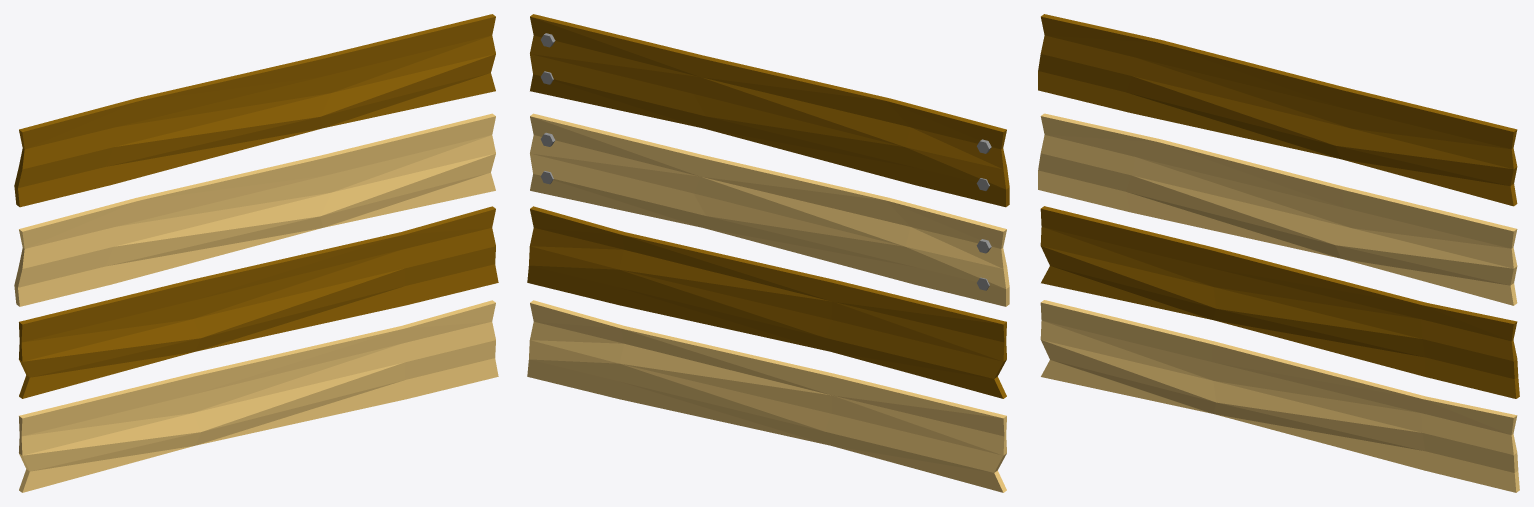
Rendered from Planks.fbx.
3 views of the same model, side by side, from view 1: azimuth 30°, elevation 25°; view 2: azimuth 150°, elevation 25°; view 3: azimuth 330°, elevation 25° (orthographic).
Parts seen in each view (by area): view 1: Plank_Nails2, Plank_Nails, Plank, Plank2; view 2: Plank_Nails2, Plank_Nails, Plank, Plank2; view 3: Plank_Nails, Plank_Nails2, Plank2, Plank.
Part boxes in pixels (left/top/right/bottom): Plank_Nails2: left=14, top=14, right=495, bottom=207; Plank_Nails: left=14, top=113, right=495, bottom=306; Plank: left=19, top=300, right=498, bottom=492; Plank2: left=19, top=206, right=498, bottom=398; Plank_Nails2: left=530, top=14, right=1009, bottom=207; Plank_Nails: left=530, top=113, right=1009, bottom=306; Plank: left=527, top=300, right=1006, bottom=492; Plank2: left=527, top=206, right=1006, bottom=398; Plank_Nails: left=1038, top=113, right=1517, bottom=305; Plank_Nails2: left=1038, top=14, right=1517, bottom=206; Plank2: left=1040, top=206, right=1519, bottom=398; Plank: left=1040, top=300, right=1519, bottom=492.
Size of the model in its own units: 77.01 by 55.74 by 1.89.
1 material, 1 textured.
